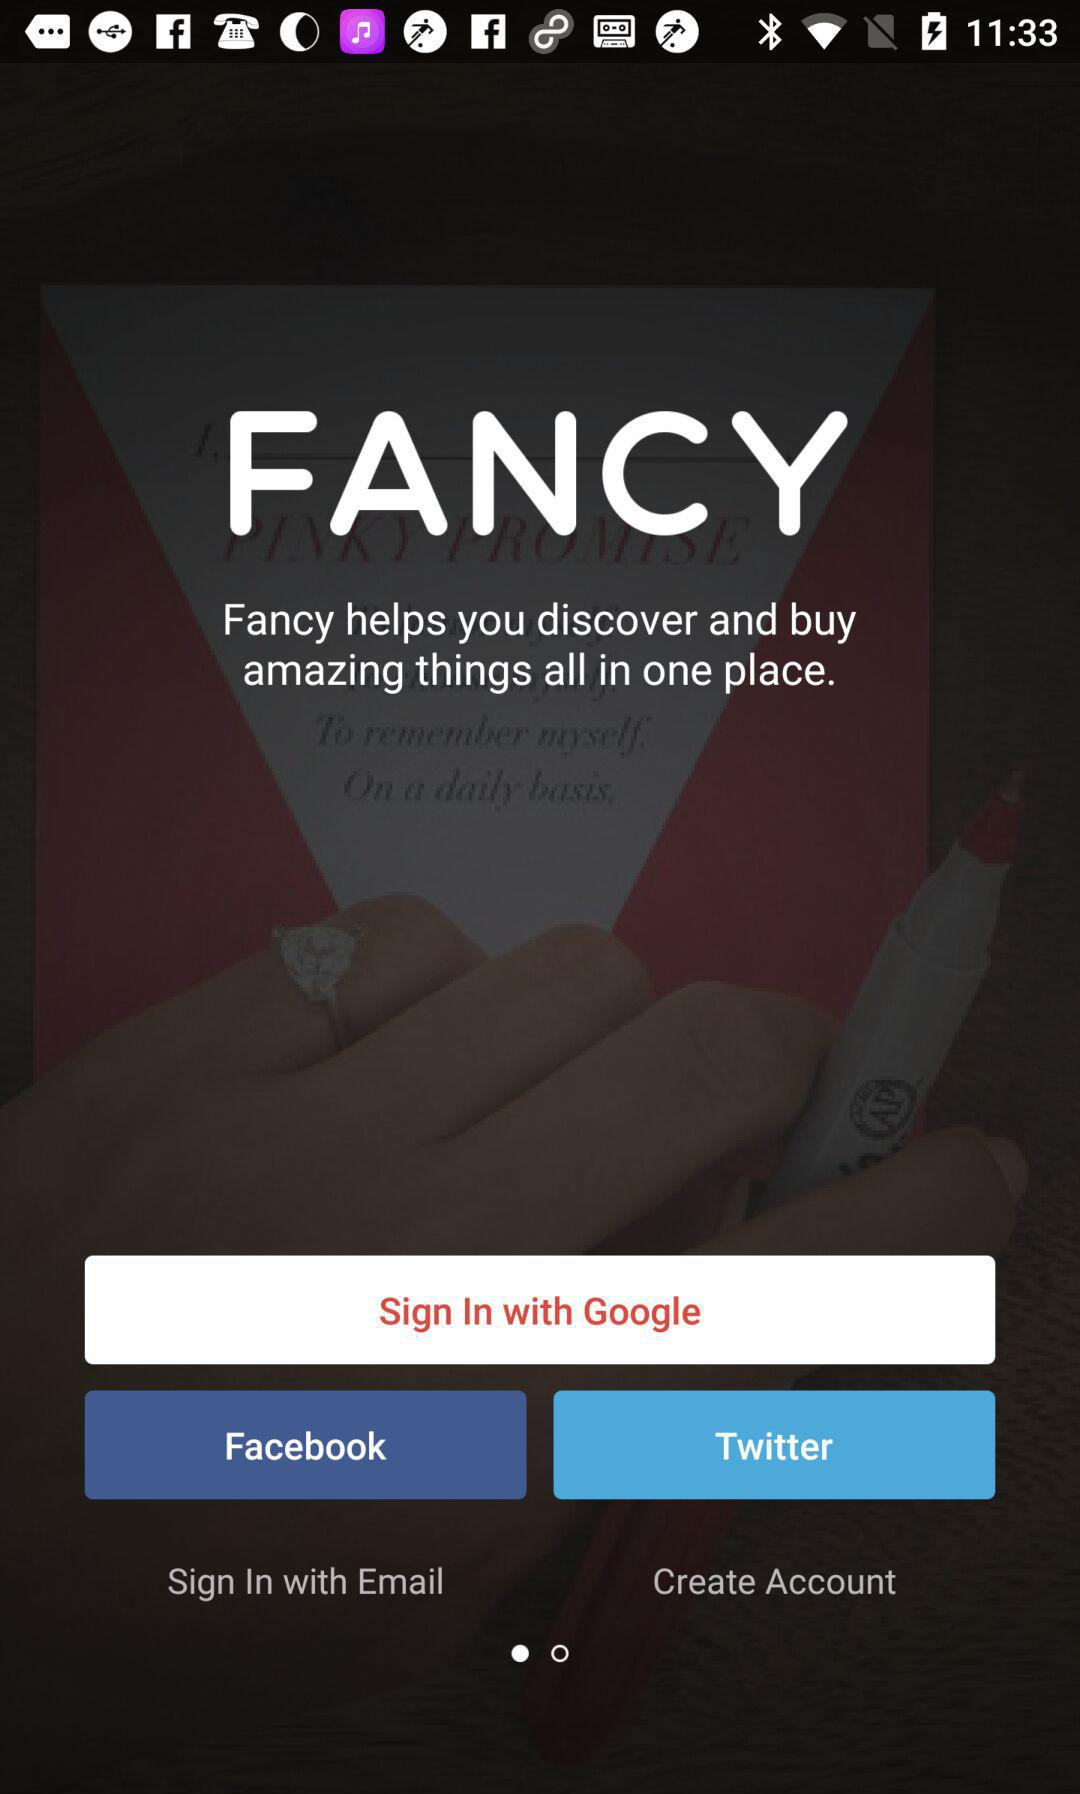BackgroundImage: (1, 64, 1080, 1794)
PageIndicator: (511, 1643, 571, 1663)
Text: (231, 411, 849, 538), (224, 601, 857, 695), (168, 1566, 445, 1603), (653, 1567, 898, 1595)
TextButton: (85, 1255, 995, 1365), (85, 1389, 528, 1501), (553, 1390, 995, 1501)
UpperTaskBar: (1, 1, 1080, 64)
